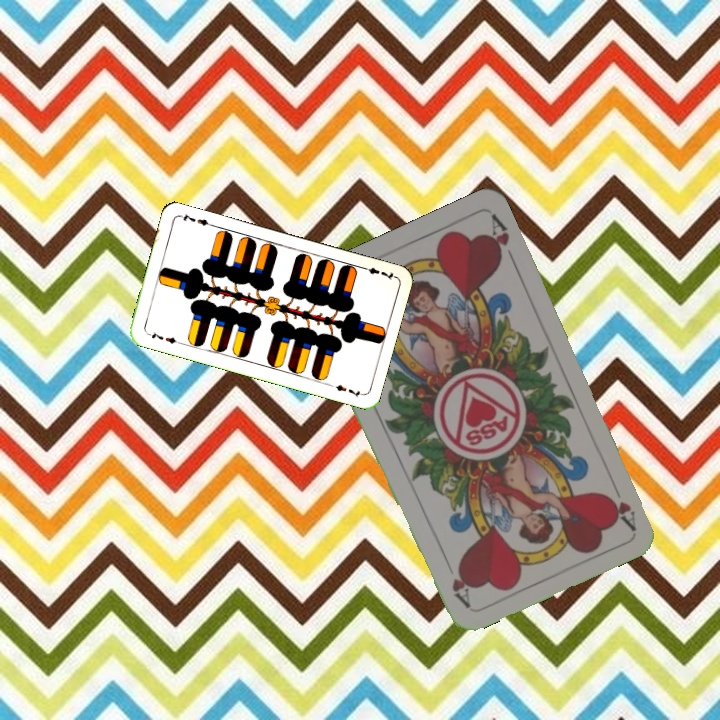E7: (357, 263, 397, 283), (143, 327, 183, 346)
HA: (603, 475, 639, 532)
